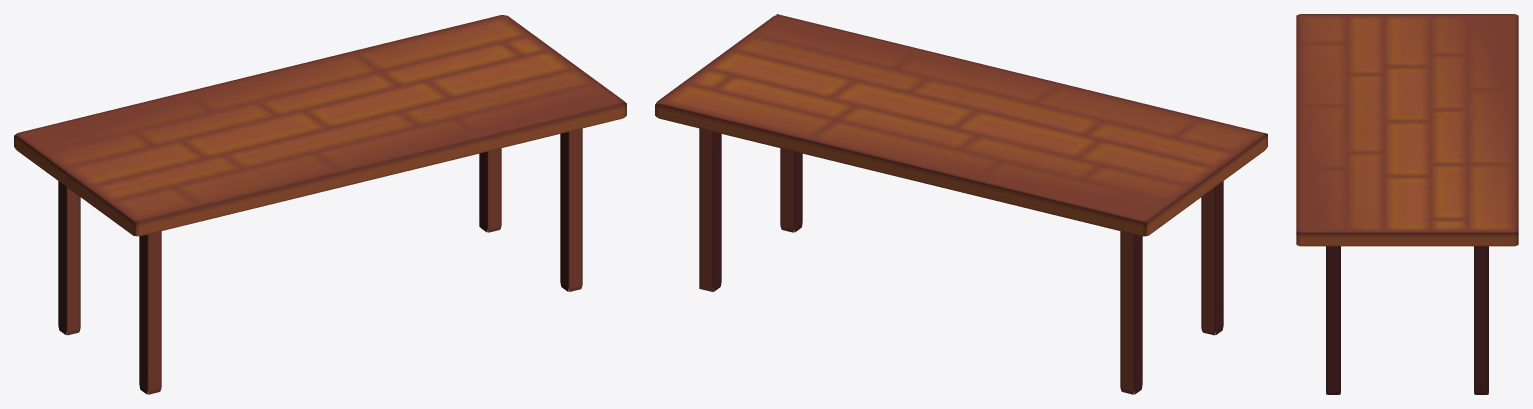
File: Table_2.fbx
3 views of the same model, side by side, from view 1: azimuth 30°, elevation 25°; view 2: azimuth 150°, elevation 25°; view 3: azimuth 270°, elevation 25° (orthographic). The views are drawn at different scales.
Visible parts, largest first — view 1: cuboid, cuboid_1, cuboid_4, cuboid_3, cuboid_2; view 2: cuboid, cuboid_2, cuboid_3, cuboid_4, cuboid_1; view 3: cuboid, cuboid_1, cuboid_2.
Boxes of the visible parts, <box> form: cuboid: <box>14,15,626,236</box>; cuboid_1: <box>560,128,582,291</box>; cuboid_4: <box>139,231,161,394</box>; cuboid_3: <box>58,181,80,335</box>; cuboid_2: <box>479,148,501,232</box>; cuboid: <box>655,14,1267,236</box>; cuboid_2: <box>699,128,721,291</box>; cuboid_3: <box>1120,231,1142,394</box>; cuboid_4: <box>1201,181,1223,335</box>; cuboid_1: <box>780,148,802,232</box>; cuboid: <box>1296,14,1518,246</box>; cuboid_1: <box>1326,246,1340,394</box>; cuboid_2: <box>1474,246,1488,394</box>.
Size of the model in its own units: 87.5 by 32.5 by 37.5.
1 material, 1 textured.
